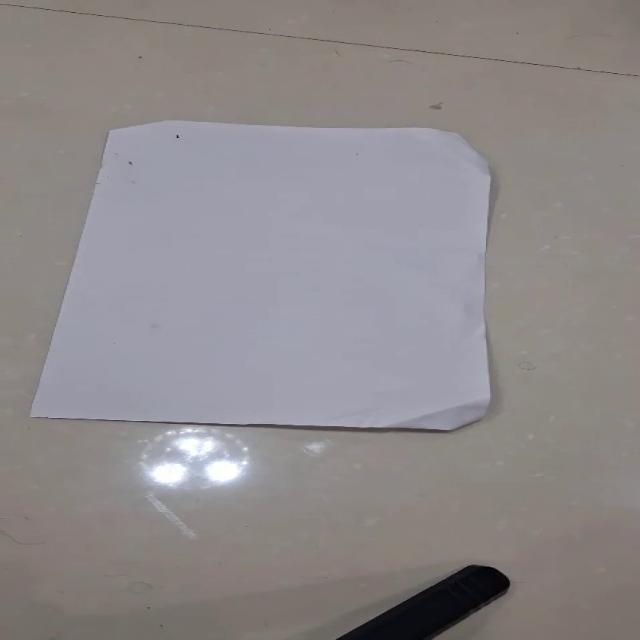paper: (28, 119, 493, 431)
